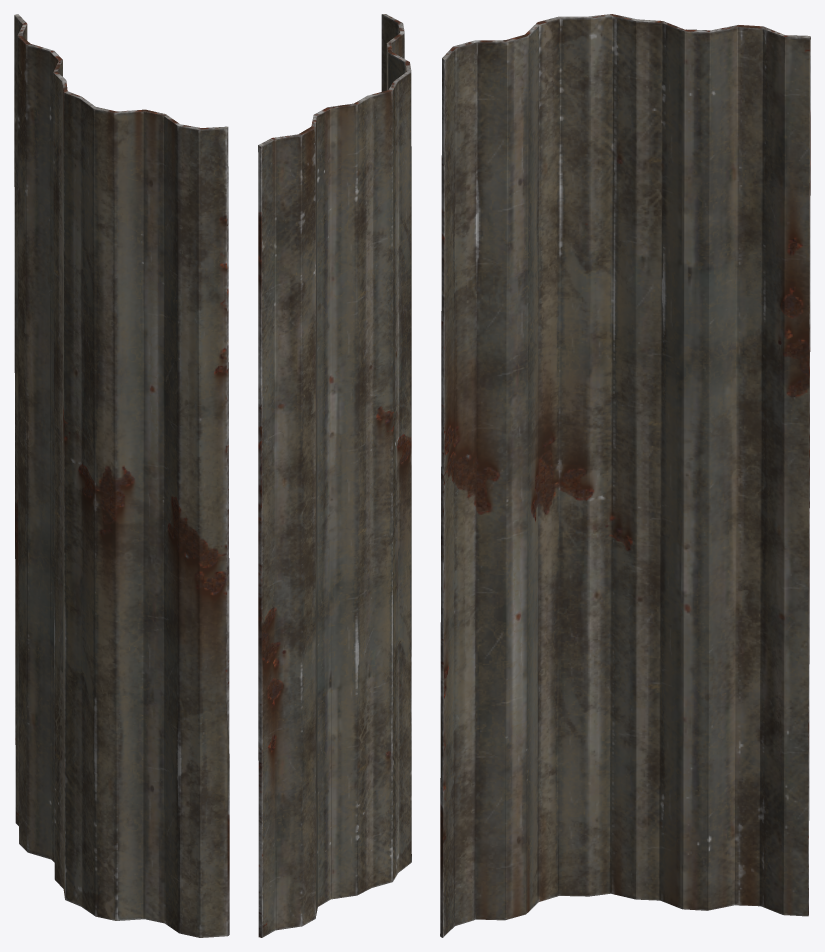
File: SM_Corrugated_01.fbx
3 renders of one model, left to right at view 1: azimuth 30°, elevation 25°; view 2: azimuth 150°, elevation 25°; view 3: azimuth 270°, elevation 25°, orthographic. The views are drawn at different scales.
Visible parts, largest first — view 1: SM_Corrugated_01_LOD0; view 2: SM_Corrugated_01_LOD0; view 3: SM_Corrugated_01_LOD0.
Part boxes in pixels (bbox=[...]): SM_Corrugated_01_LOD0: bbox=[14, 14, 229, 937]; SM_Corrugated_01_LOD0: bbox=[258, 14, 411, 937]; SM_Corrugated_01_LOD0: bbox=[440, 14, 810, 937].
Bounding box in the file's own units: 49.26 × 165 × 432.
Materials: 1 (1 with a texture image).
